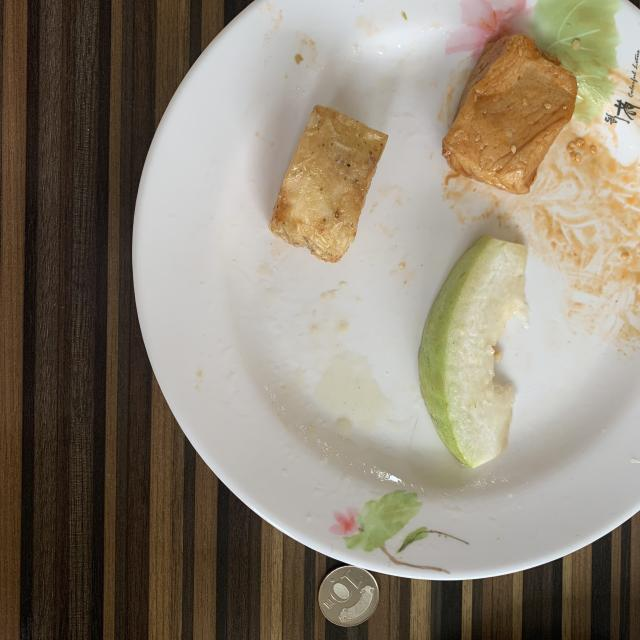coin: (319, 566, 379, 626)
creamy tofu: (442, 34, 578, 194)
fried potato: (269, 105, 388, 262)
guava -sliced-: (419, 236, 528, 468)
